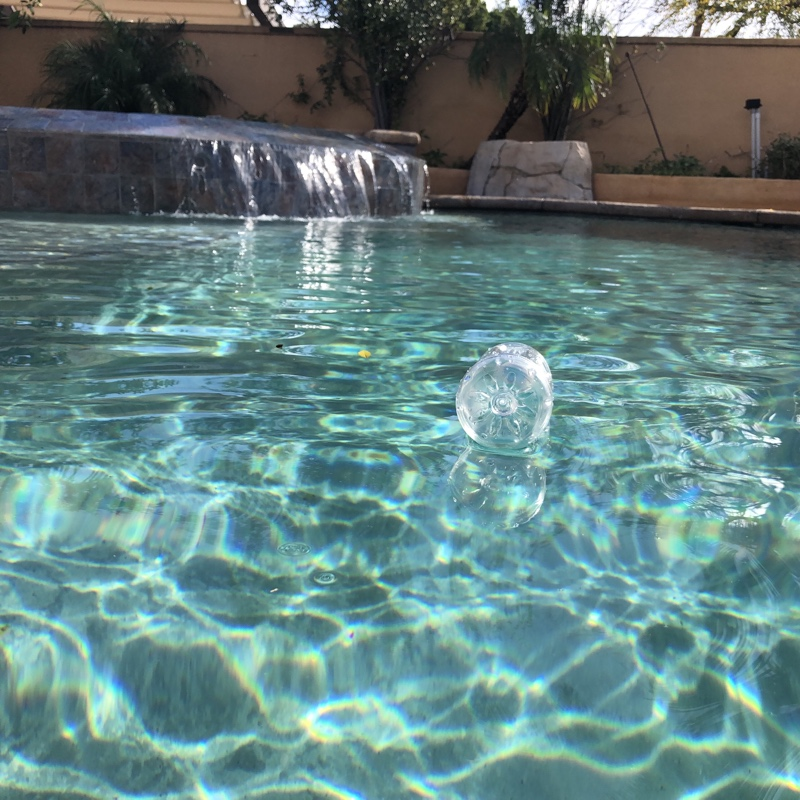Plastic Bottle: (453, 333, 556, 456)
